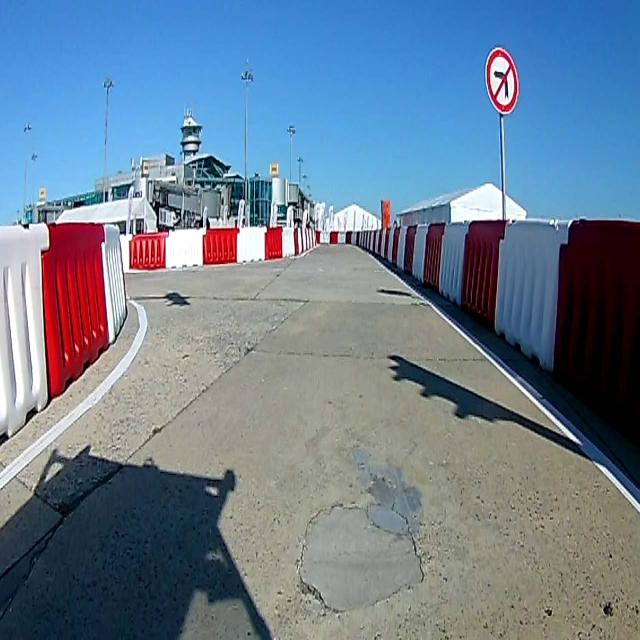soladonulmez: (487, 49, 518, 112)
